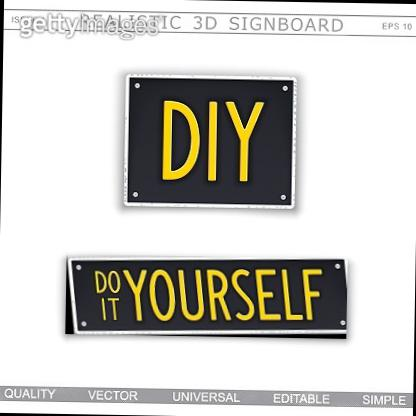Plates: (65, 254, 348, 340)
